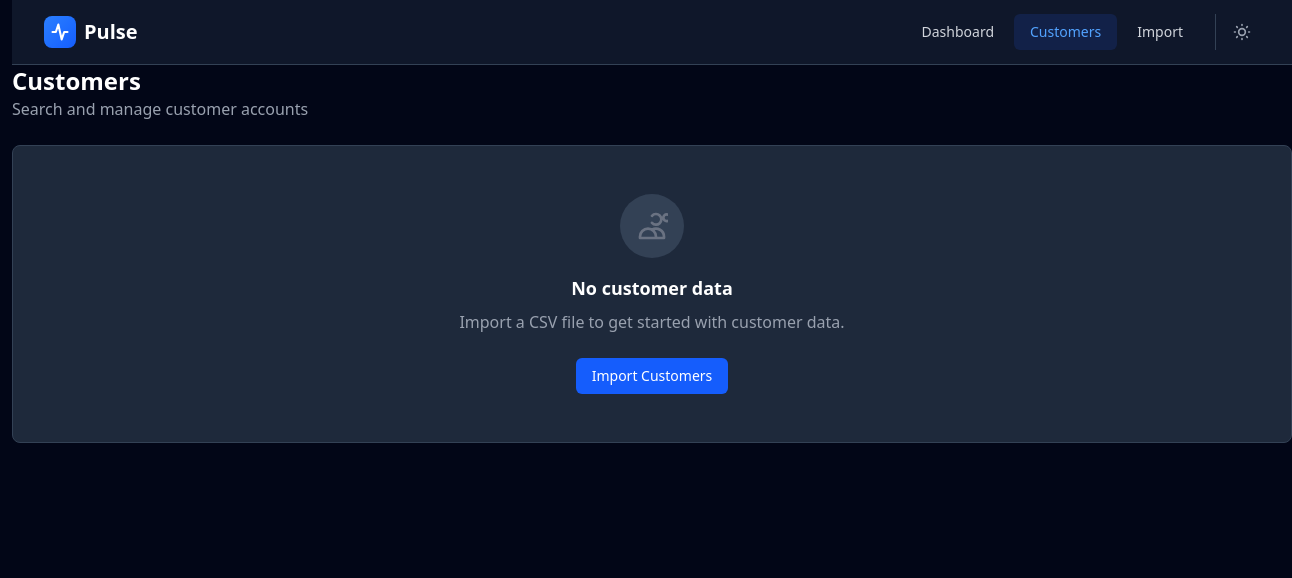
Test: Navigation Flow Integration › Logo Navigation › should navigate to dashboard when clicking logo
Logo contains "Pulse" text
Click the link "Pulse" at {"x": 91, "y": 32}, box [44, 16, 138, 48]
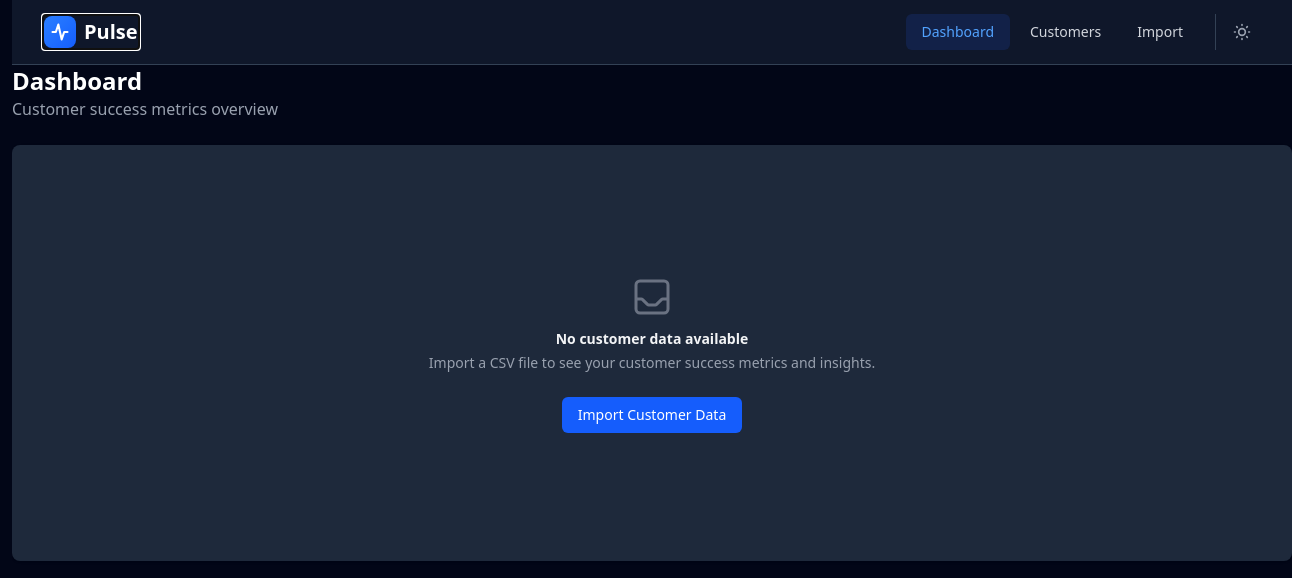
Expected: the heading "Dashboard" is shown, [12, 64, 142, 97]
